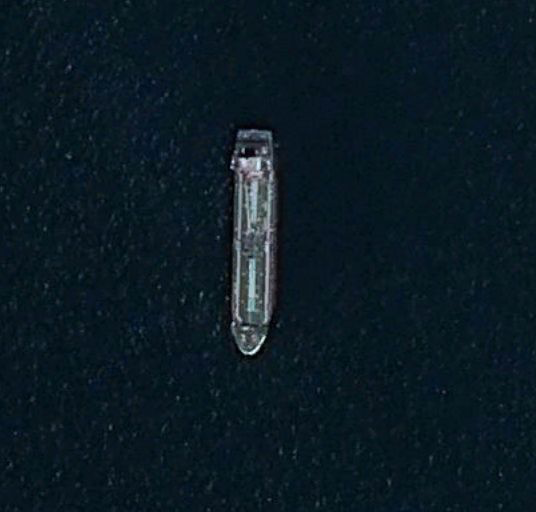boat: (228, 126, 281, 358)
